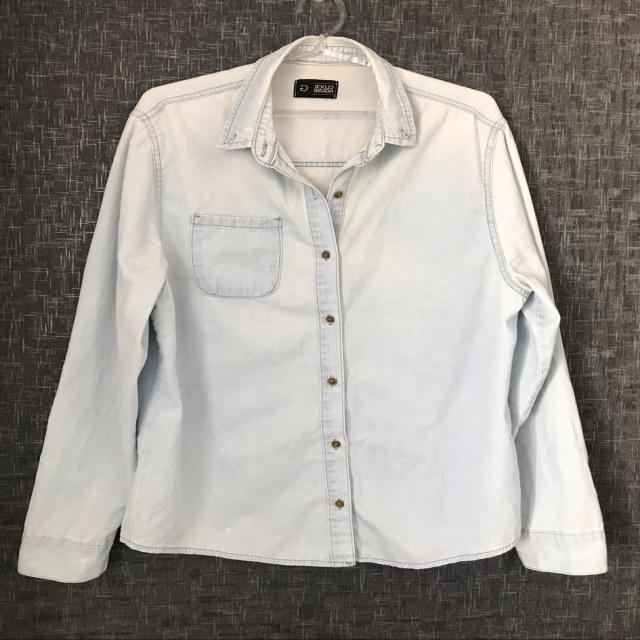long sleeve shirt: (12, 28, 616, 586)
